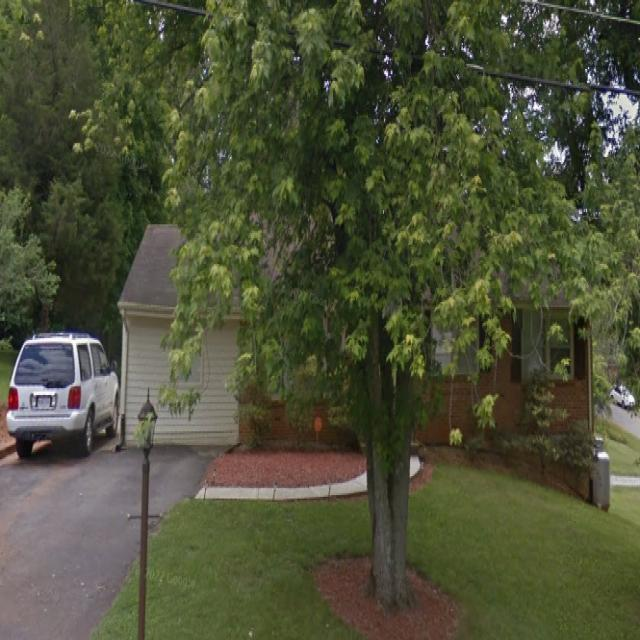House: (118, 224, 596, 506)
